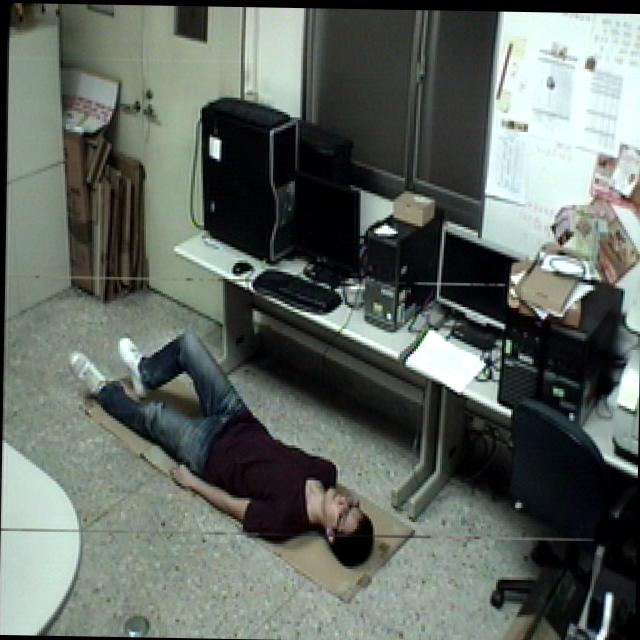lie: (62, 320, 386, 566)
